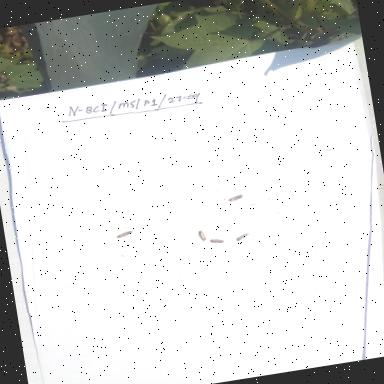pbw: (114, 226, 136, 240), (233, 229, 253, 244), (228, 192, 250, 204), (208, 235, 227, 247), (197, 228, 209, 242)
